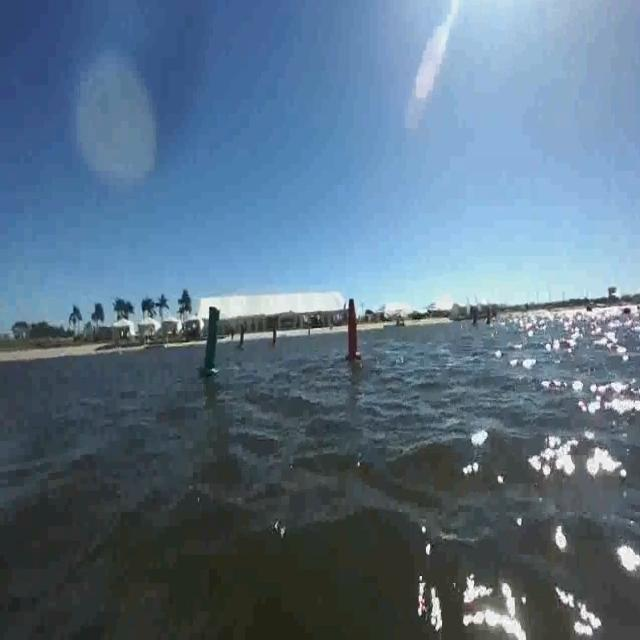green-column-buoy: (200, 305, 224, 379)
red-column-buoy: (343, 296, 362, 362)
